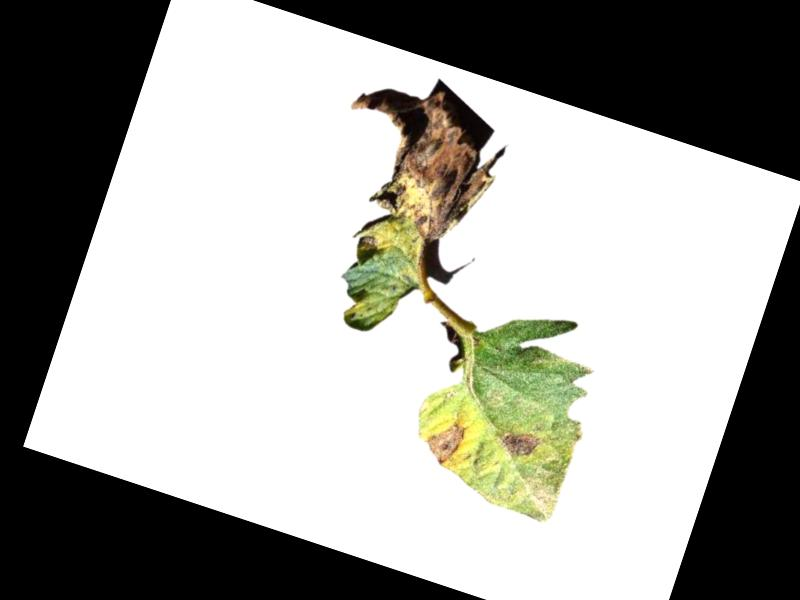Early_blight: (305, 63, 518, 284), (420, 416, 466, 468), (494, 424, 540, 463)
